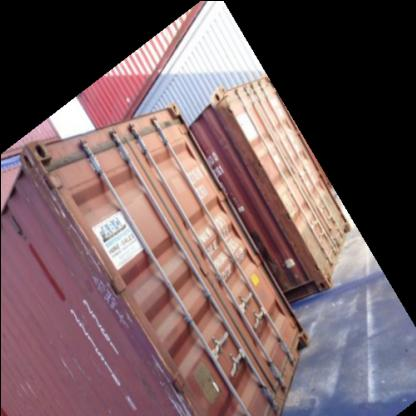Damage: (154, 346, 190, 391), (74, 212, 90, 270), (58, 352, 92, 378), (8, 371, 34, 401), (24, 150, 44, 186), (44, 188, 64, 224)
